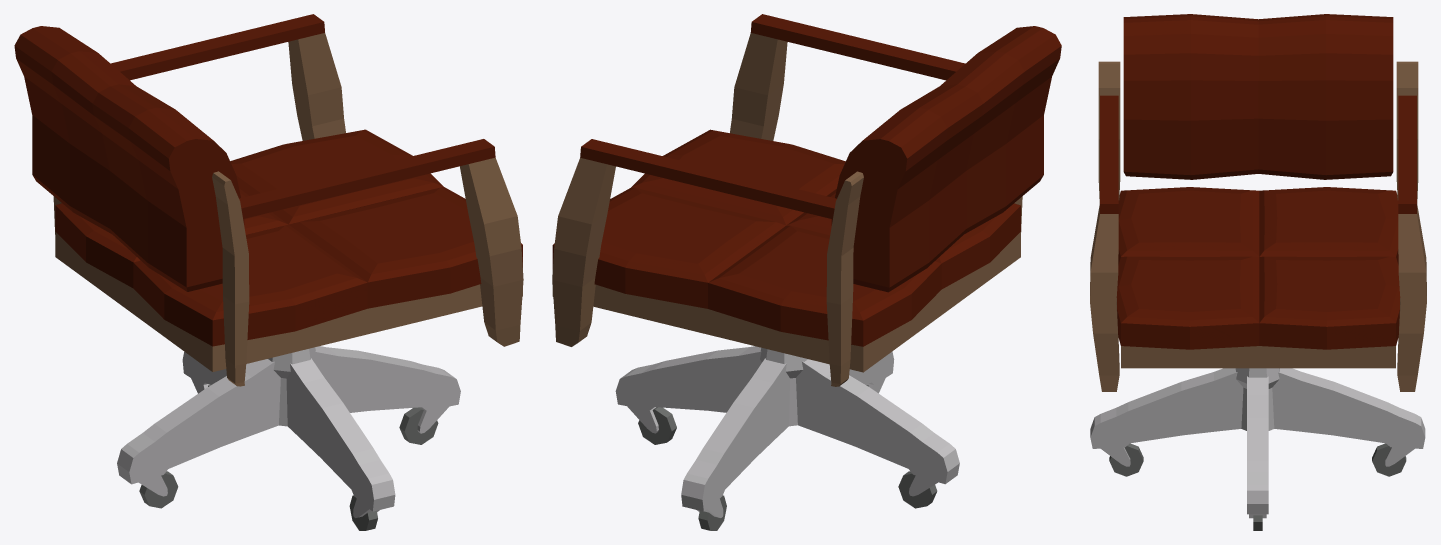
File: SM_Chair_03.glb
3 renders of one model, left to right at view 1: azimuth 30°, elevation 25°; view 2: azimuth 150°, elevation 25°; view 3: azimuth 270°, elevation 25°, orthographic. The views are drawn at different scales.
Parts seen in each view (by area): view 1: SM_Chair_03; view 2: SM_Chair_03; view 3: SM_Chair_03.
Part boxes in pixels (x1,y1,x2,y2): SM_Chair_03: (14,14,523,530); SM_Chair_03: (552,14,1061,530); SM_Chair_03: (1090,14,1426,530).
Bounding box in the file's own units: 0.8821 × 1.01 × 0.8077.
2 materials, 1 textured.
